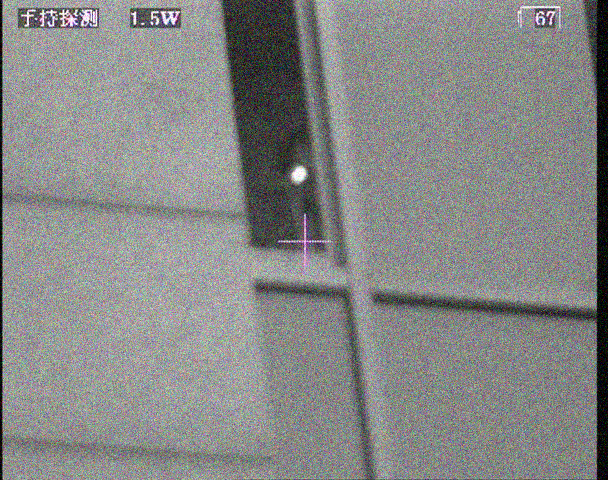my: (290, 164, 307, 185)
